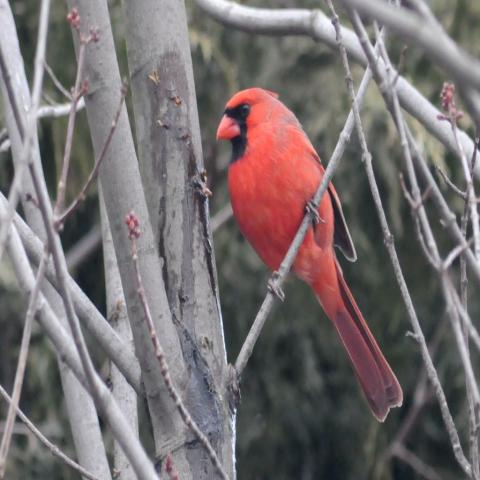bird: (214, 83, 404, 424)
